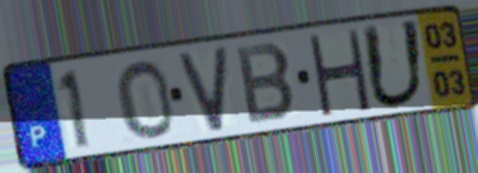1: (54, 66, 93, 151)
B: (233, 40, 299, 126)
H: (304, 28, 373, 117)
O: (113, 57, 178, 141)
U: (358, 16, 429, 111)
V: (175, 43, 231, 136)
